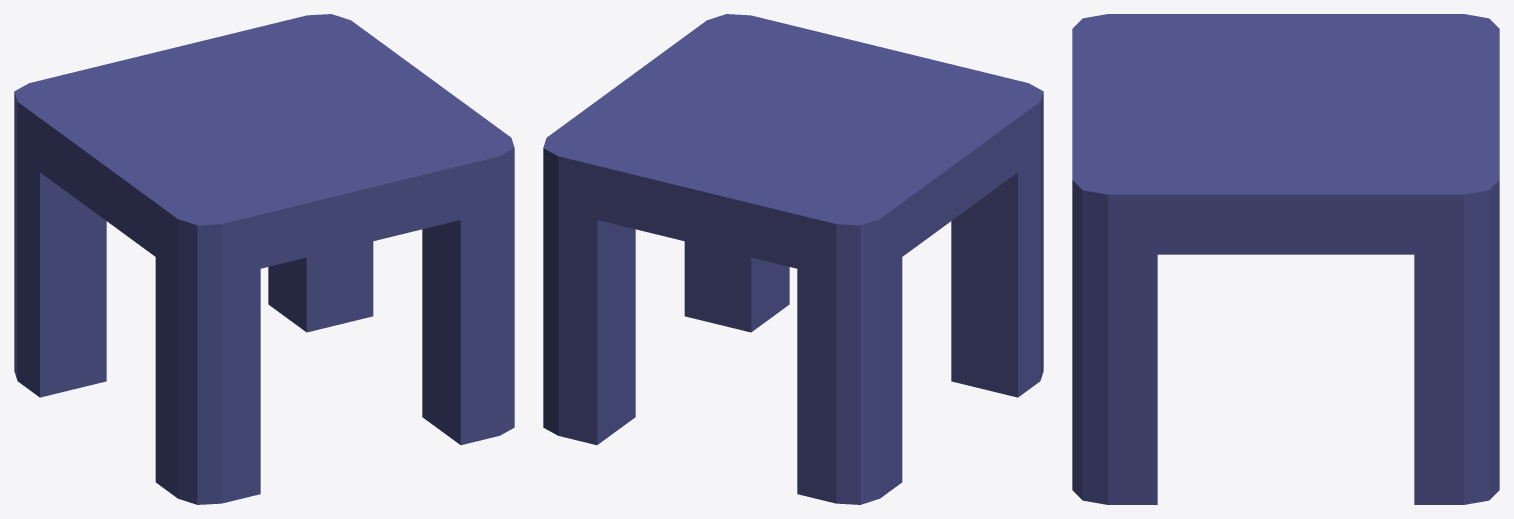
File: HDTable1.fbx
3 views of the same model, side by side, from view 1: azimuth 30°, elevation 25°; view 2: azimuth 150°, elevation 25°; view 3: azimuth 270°, elevation 25° (orthographic). The views are drawn at different scales.
Parts seen in each view (by area): view 1: Table1.001; view 2: Table1.001; view 3: Table1.001.
Part boxes in pixels (bbox=[...]): Table1.001: bbox=[14, 14, 514, 504]; Table1.001: bbox=[543, 14, 1043, 504]; Table1.001: bbox=[1072, 14, 1499, 504].
Size of the model in its own units: 84.14 by 67.4 by 84.14.
